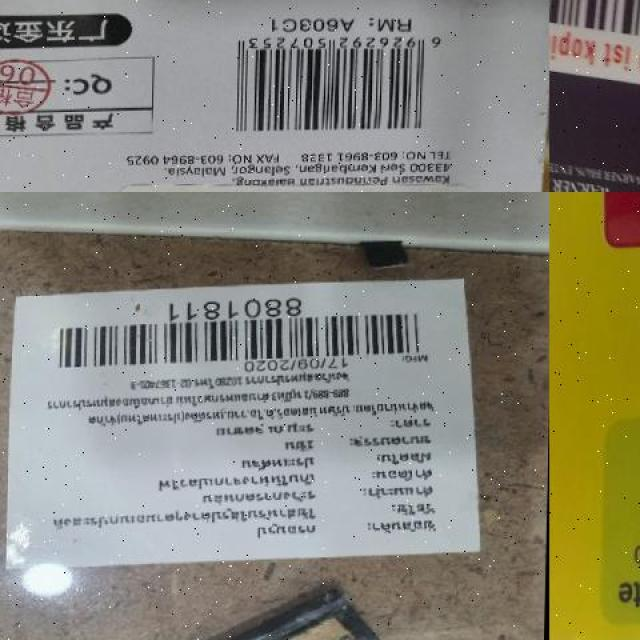Barcode: (46, 293, 439, 371), (218, 31, 447, 141), (549, 0, 640, 111)
